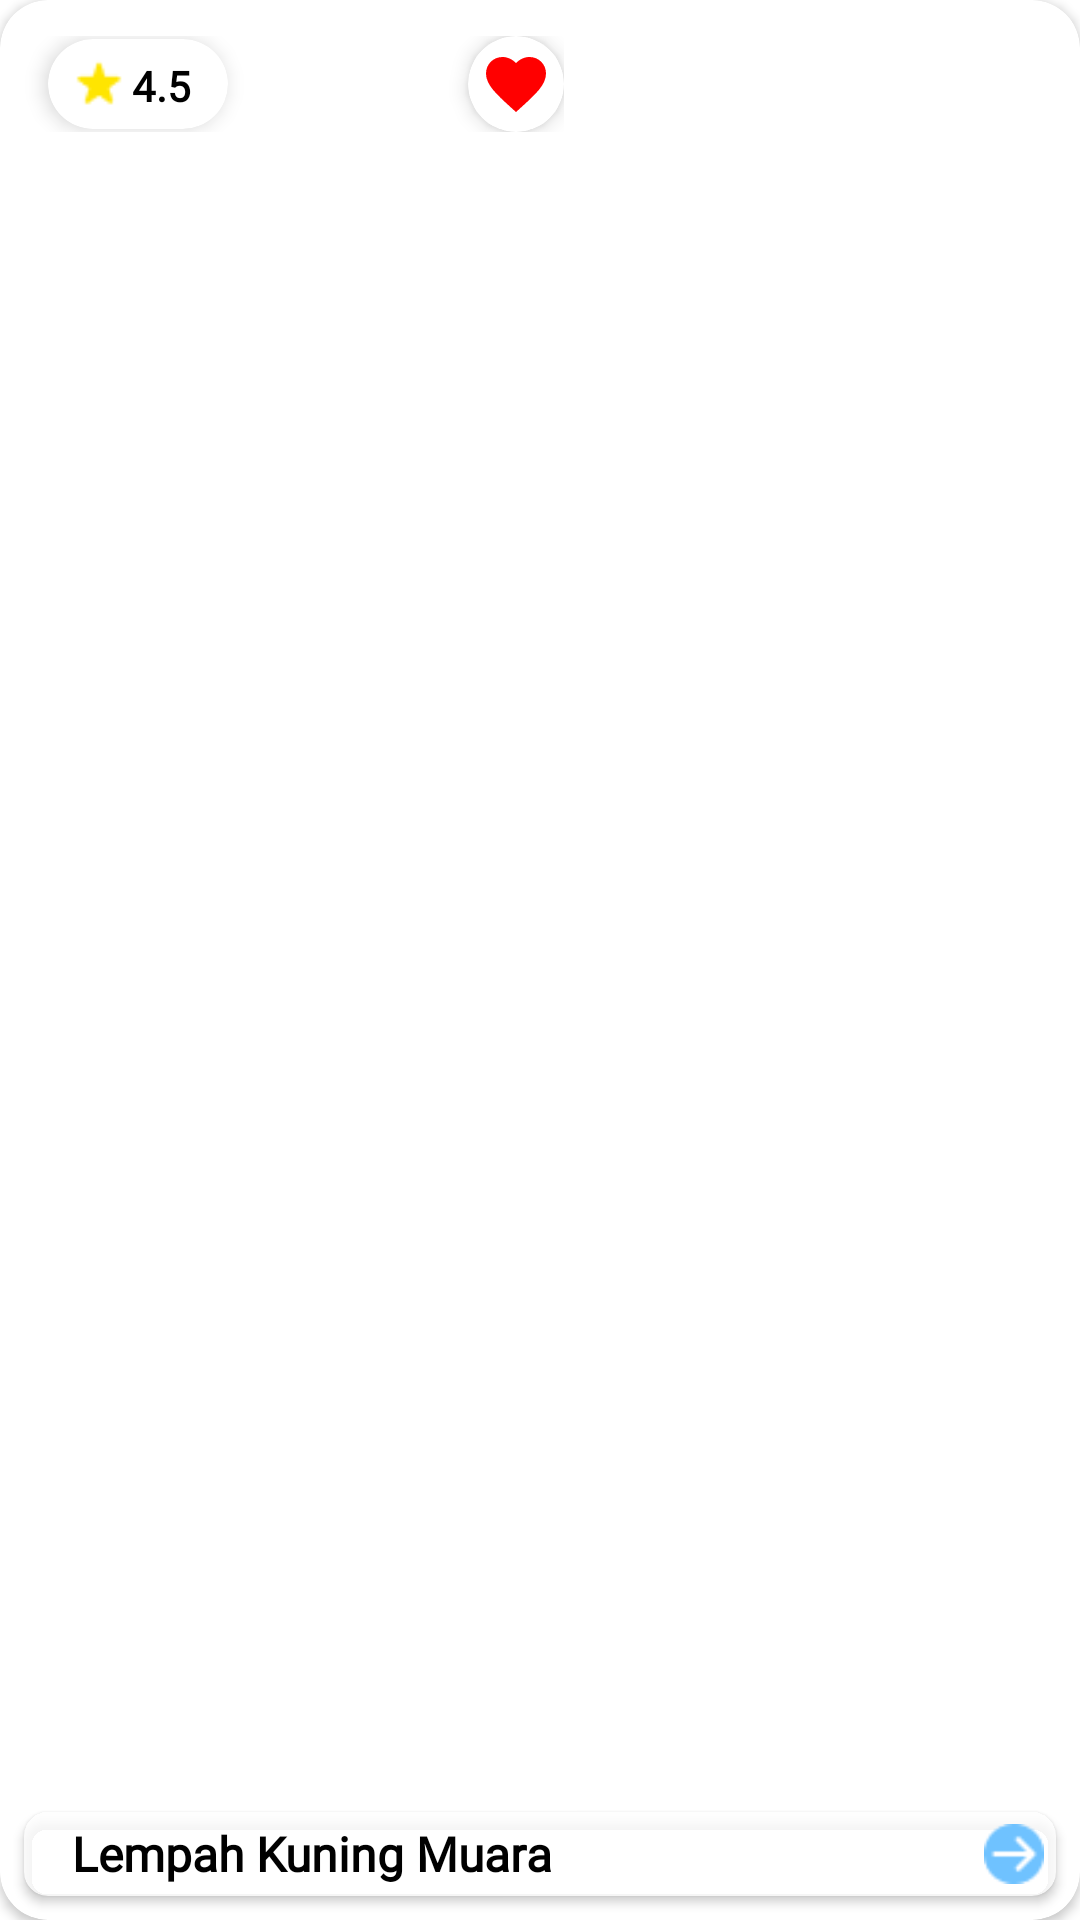

Screen size 1080 × 1920. Icon name, then its center in pixels as [x,y]:
Favorite: [516,94]
Lanjut: [1014,1854]
Rating: [99,83]
